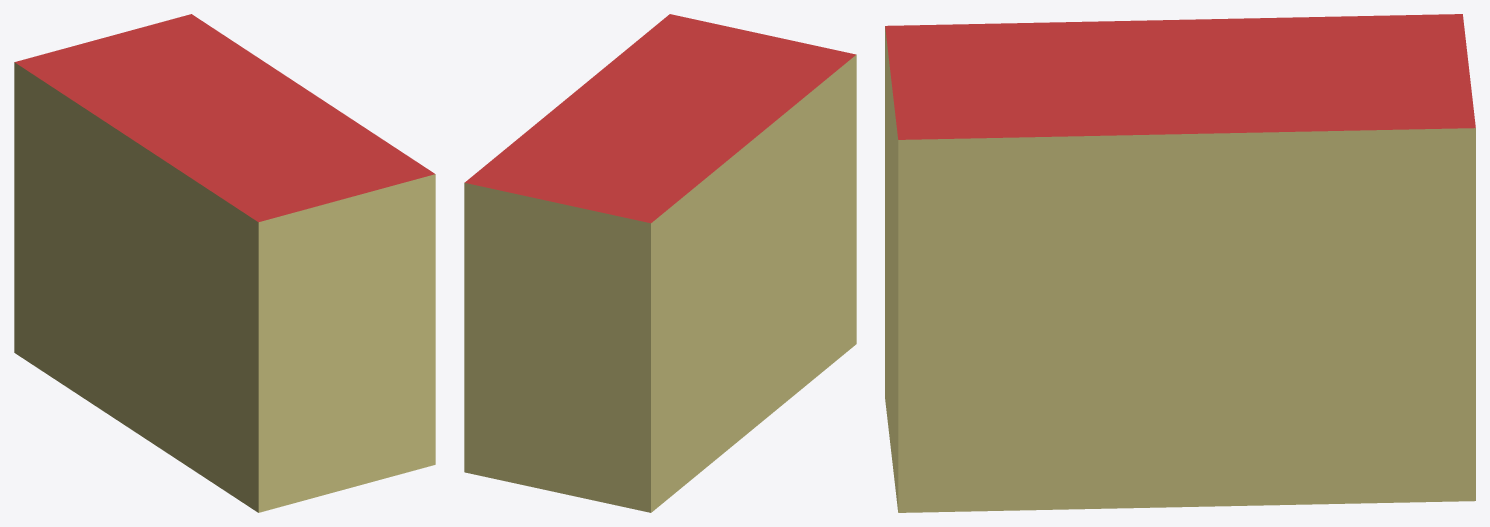
The picture shows the model from 3 angles, left to right: view 1: azimuth 30°, elevation 25°; view 2: azimuth 150°, elevation 25°; view 3: azimuth 270°, elevation 25°; orthographic projection. The views are drawn at different scales.
Visible parts, largest first — view 1: group_4, group_3; view 2: group_4, group_3; view 3: group_4, group_3.
Boxes of the visible parts, box(x1,y1,x2,y2) form: group_4: box(14, 62, 435, 512); group_3: box(14, 14, 434, 222); group_4: box(464, 55, 856, 512); group_3: box(464, 14, 856, 223); group_4: box(885, 26, 1475, 512); group_3: box(885, 14, 1475, 139).
Size of the model in its own units: 3.9 by 7.72 by 5.38.
